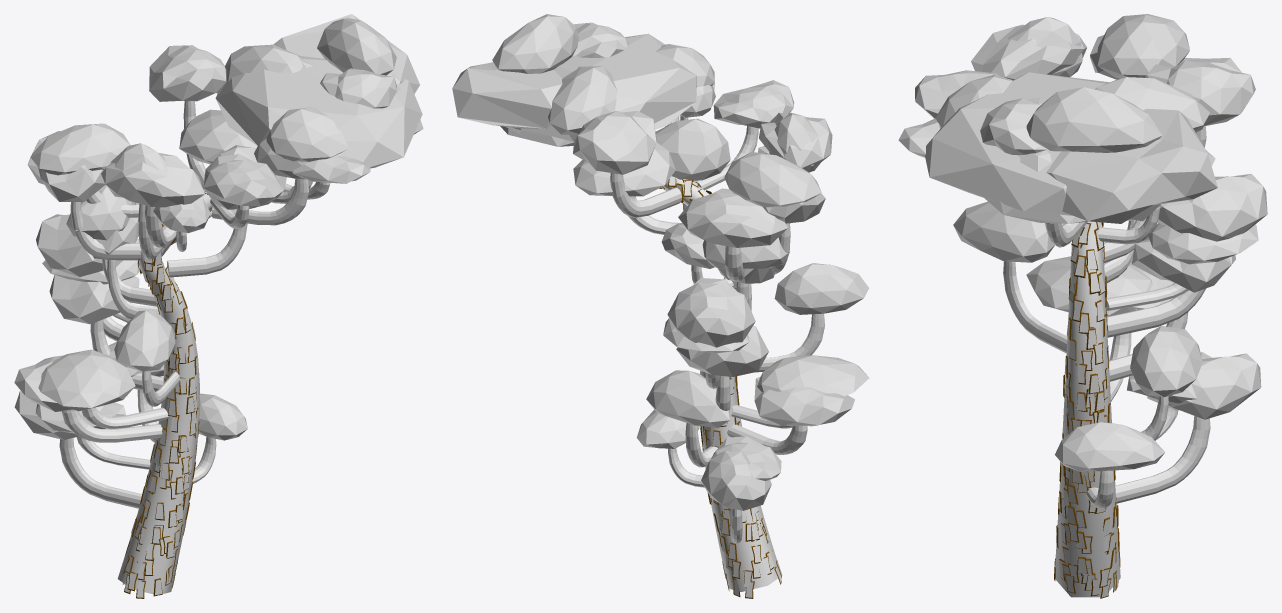
Rendered from Tree03.fbx.
3 views of the same model, side by side, from view 1: azimuth 30°, elevation 25°; view 2: azimuth 150°, elevation 25°; view 3: azimuth 270°, elevation 25° (orthographic). The views are drawn at different scales.
Visible parts, largest first — view 1: Tree03; view 2: Tree03; view 3: Tree03.
Part boxes in pixels (x1,y1,x2,y2): Tree03: [14, 14, 423, 598]; Tree03: [452, 14, 869, 598]; Tree03: [898, 14, 1267, 598].
Size of the model in its own units: 967 by 1241 by 668.
